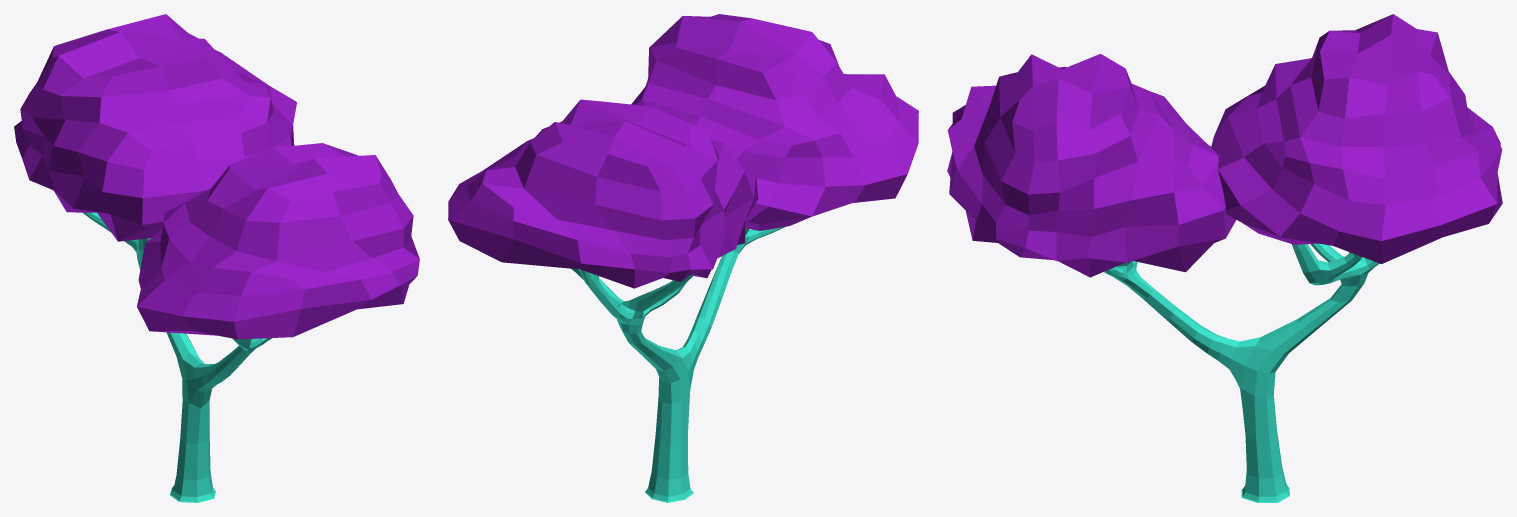
Rendered from CommonTree_1.obj.
3 views of the same model, side by side, from view 1: azimuth 30°, elevation 25°; view 2: azimuth 150°, elevation 25°; view 3: azimuth 270°, elevation 25° (orthographic). The views are drawn at different scales.
Parts seen in each view (by area): view 1: CommonTree_1_Cube.049; view 2: CommonTree_1_Cube.049; view 3: CommonTree_1_Cube.049.
Part boxes in pixels (<box>): CommonTree_1_Cube.049: <box>14,14,419,502</box>; CommonTree_1_Cube.049: <box>448,14,918,502</box>; CommonTree_1_Cube.049: <box>947,14,1502,502</box>.
Bounding box in the file's own units: 1.89 × 2.48 × 2.77.
